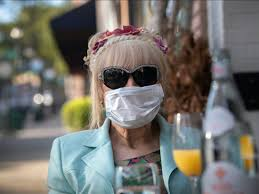with-mask: (80, 33, 174, 131)
